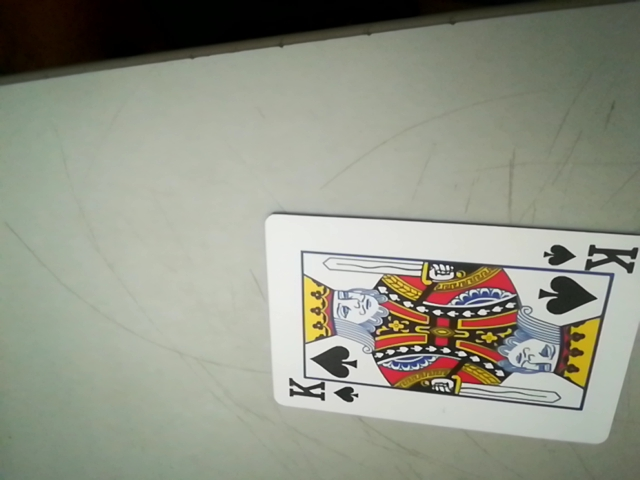ht k: (540, 240, 638, 277), (283, 376, 363, 408)
